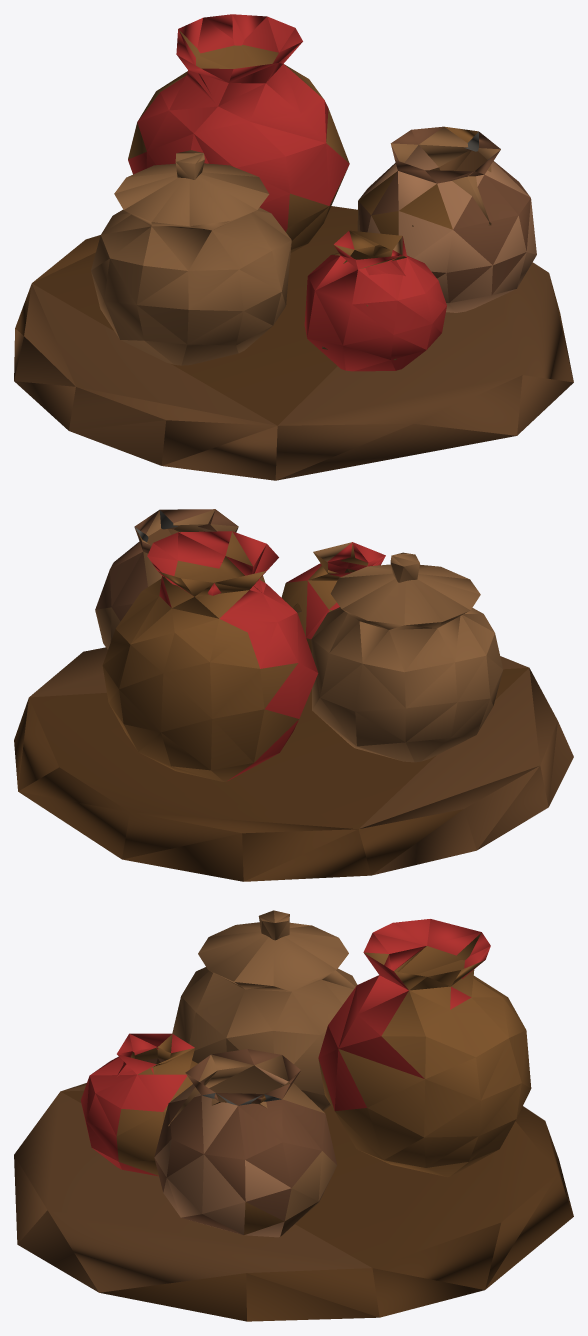
File: prop.pots.glb
The picture shows the model from 3 angles, top to bottom: view 1: azimuth 30°, elevation 25°; view 2: azimuth 150°, elevation 25°; view 3: azimuth 270°, elevation 25°; orthographic projection. The views are drawn at different scales.
Parts seen in each view (by area): view 1: asset; view 2: asset; view 3: asset.
Part boxes in pixels (x1,y1,x2,y2): asset: (14,14,573,480); asset: (14,509,573,881); asset: (14,910,573,1321).
Bounding box in the file's own units: 0.9746 × 0.5 × 0.9673.
